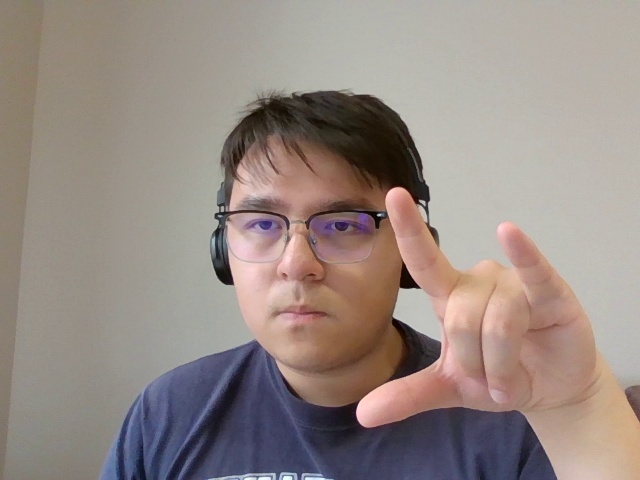ILoveYou: (334, 175, 609, 452)
